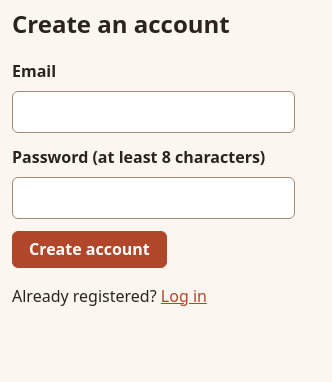
RegisterPage: the form › clears the old errors when the form is submitted again
The image size is (332, 382).
Click the button "Create account" at [89, 249], box [12, 231, 167, 268]
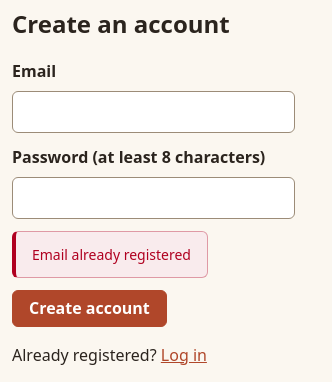
Expected: the message "Email already registered" is shown, [12, 231, 208, 278]
Click the button "Create account" at [89, 308], box [12, 290, 167, 327]
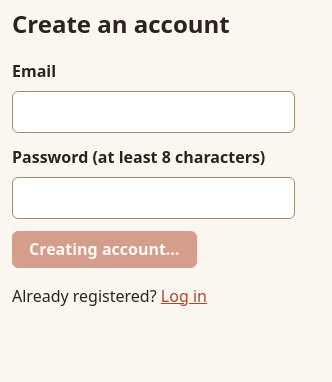
Expected: the message "Email already registered" is gone
